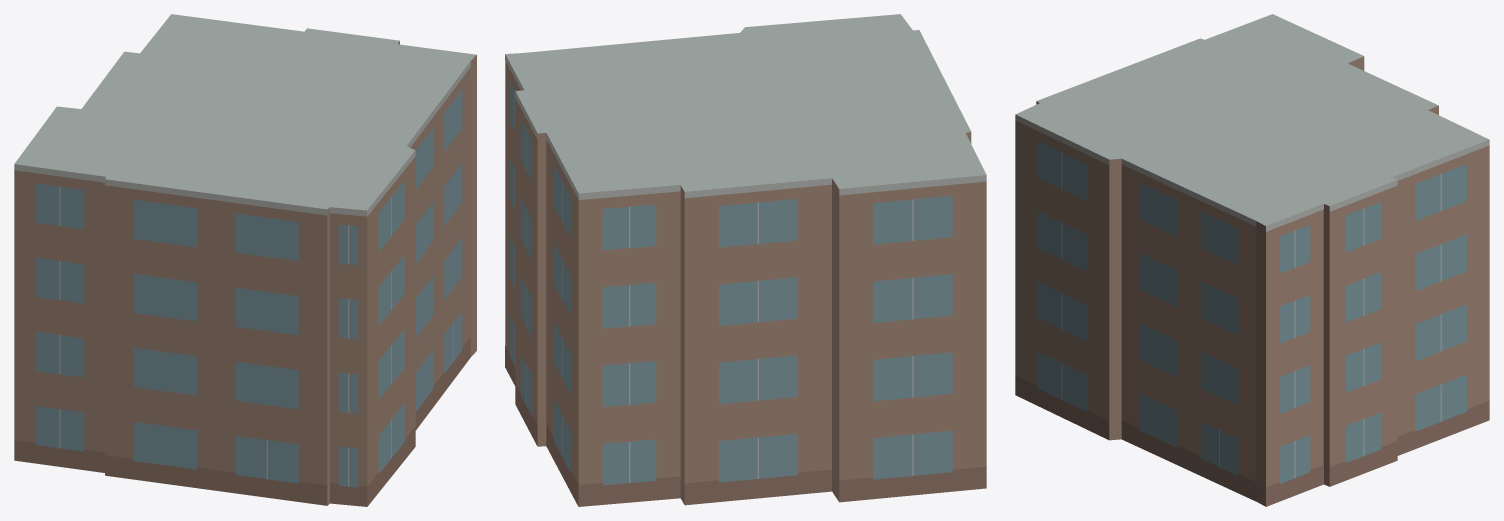
Rendered from survey-upis-32833653.glb.
3 views of the same model, side by side, from view 1: azimuth 30°, elevation 25°; view 2: azimuth 150°, elevation 25°; view 3: azimuth 270°, elevation 25° (orthographic). The views are drawn at different scales.
Visible parts, largest first — view 1: survey-upis-32833653.tmp; view 2: survey-upis-32833653.tmp; view 3: survey-upis-32833653.tmp.
Part boxes in pixels (left/top/right/bottom): survey-upis-32833653.tmp: left=14, top=14, right=476, bottom=506; survey-upis-32833653.tmp: left=505, top=14, right=986, bottom=506; survey-upis-32833653.tmp: left=1015, top=14, right=1489, bottom=506.
Size of the model in its own units: 19.35 by 11.93 by 18.27.
